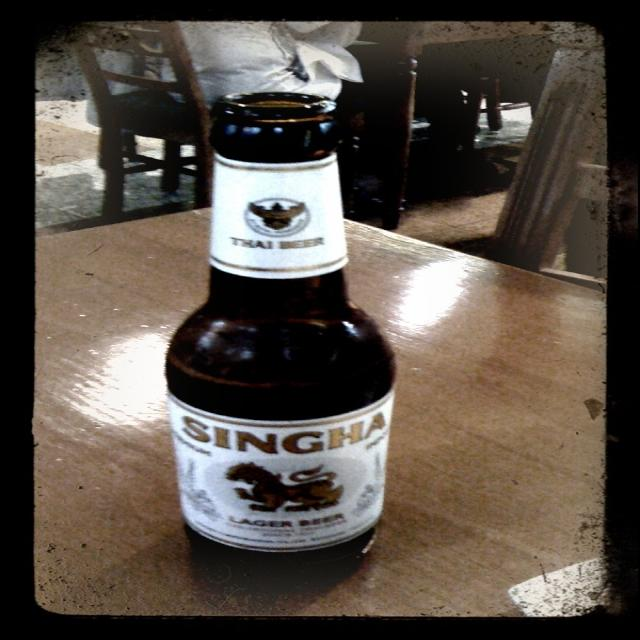singha: (172, 401, 393, 550)
